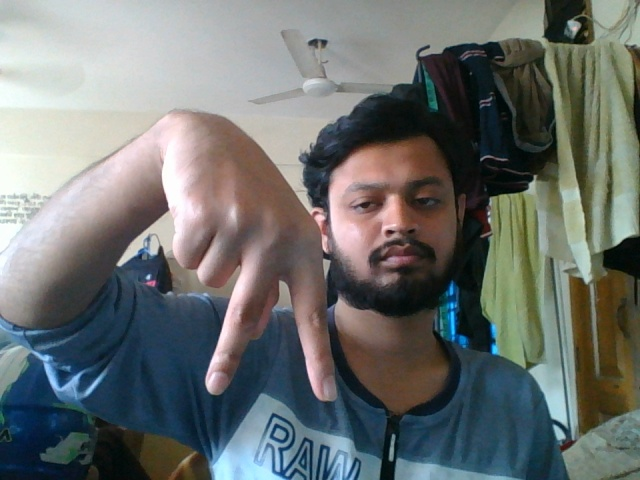pa: (144, 107, 343, 424)
